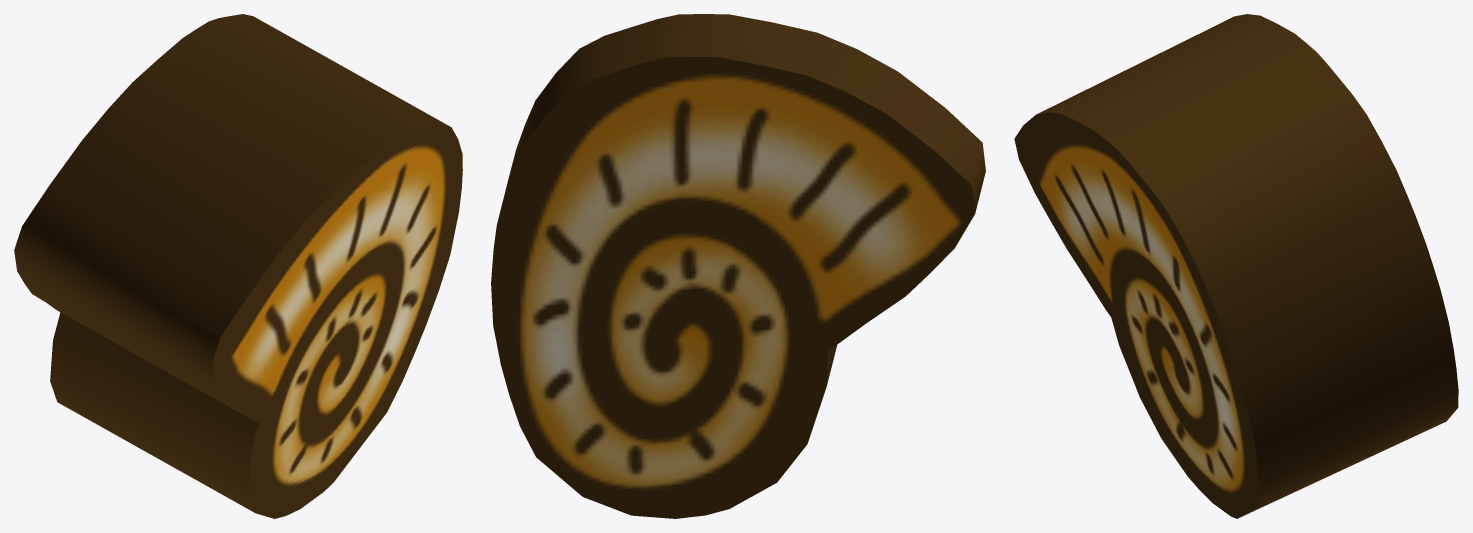
File: STATIC.ICO.obj
3 views of the same model, side by side, from view 1: azimuth 30°, elevation 25°; view 2: azimuth 150°, elevation 25°; view 3: azimuth 270°, elevation 25° (orthographic). The views are drawn at different scales.
Size of the model in its own units: 4.56 by 4.43 by 4.1.
1 material, 1 textured.
